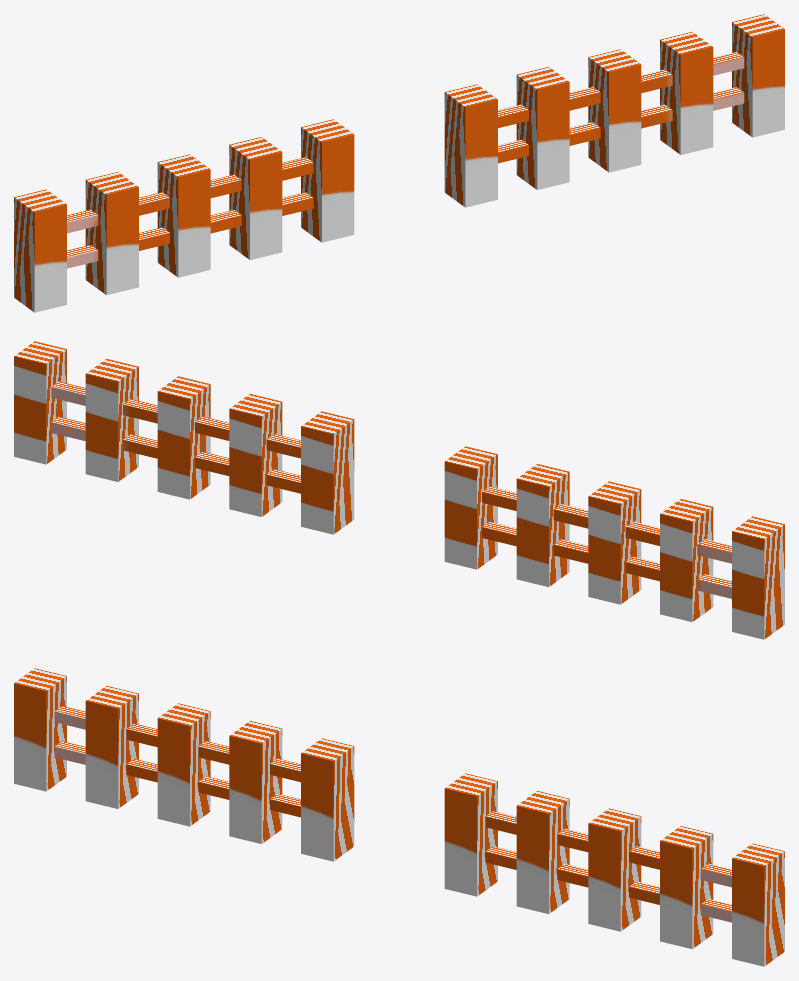
The model's file is Fence4.fbx.
The picture shows the model from 3 angles, top to bottom: view 1: azimuth 30°, elevation 25°; view 2: azimuth 150°, elevation 25°; view 3: azimuth 330°, elevation 25°; orthographic projection.
Parts seen in each view (by area): view 1: fence_short_mesh; view 2: fence_short_mesh; view 3: fence_short_mesh.
Boxes of the visible parts, left/top/right/bottom form: fence_short_mesh: left=14, top=14, right=784, bottom=312; fence_short_mesh: left=14, top=341, right=784, bottom=639; fence_short_mesh: left=14, top=668, right=784, bottom=966.
Bounding box in the file's own units: 836 × 107 × 39.99.
